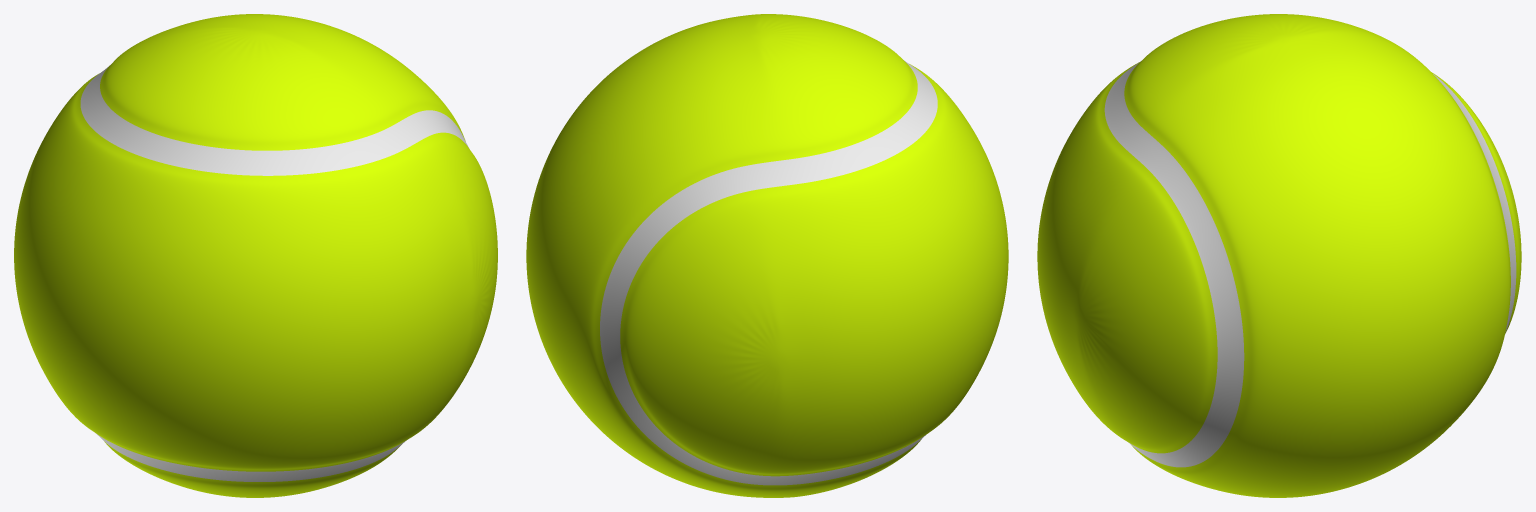
File: balletenis_t.fbx
The picture shows the model from 3 angles, left to right: view 1: azimuth 30°, elevation 25°; view 2: azimuth 150°, elevation 25°; view 3: azimuth 270°, elevation 25°; orthographic projection.
Parts seen in each view (by area): view 1: Sphere; view 2: Sphere; view 3: Sphere.
Boxes of the visible parts, x1=… form: Sphere: x1=14, y1=14, x2=497, y2=497; Sphere: x1=526, y1=14, x2=1008, y2=497; Sphere: x1=1037, y1=14, x2=1521, y2=497.
Size of the model in its own units: 7.27 by 7.31 by 7.28.
